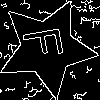F: (22, 23, 73, 62)
